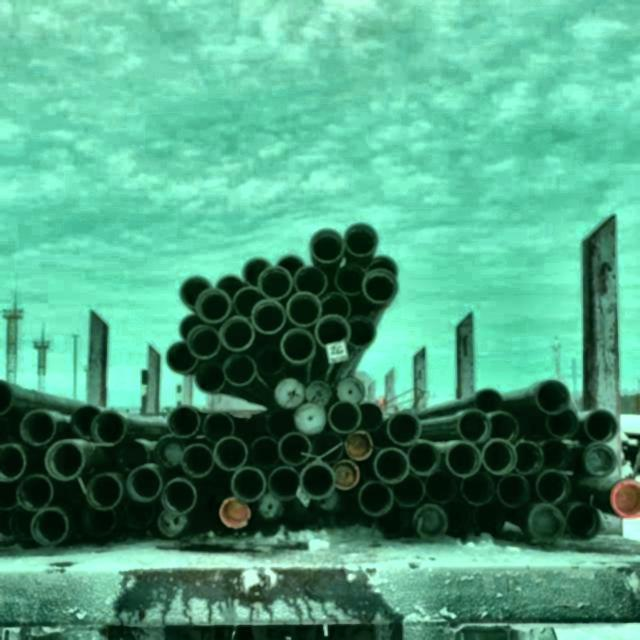pipe: (44, 440, 86, 482), (29, 508, 69, 548), (529, 504, 567, 544), (126, 464, 163, 504), (86, 474, 124, 512), (16, 475, 54, 512), (446, 442, 482, 480), (251, 299, 287, 336), (535, 380, 572, 416), (195, 288, 232, 324), (219, 316, 256, 352), (374, 449, 410, 486), (358, 482, 395, 518), (301, 462, 336, 500), (231, 468, 267, 504), (161, 478, 197, 514), (281, 329, 316, 366), (287, 292, 322, 328), (363, 270, 398, 306), (91, 411, 127, 446), (537, 470, 572, 506), (567, 504, 602, 540), (413, 505, 449, 540), (20, 411, 54, 448), (484, 439, 518, 476), (213, 437, 248, 472), (387, 413, 422, 448), (461, 473, 496, 508), (583, 410, 620, 443), (346, 223, 379, 260), (278, 433, 312, 468), (187, 325, 221, 360), (583, 444, 618, 478), (409, 441, 441, 478), (498, 475, 531, 510), (181, 444, 214, 479), (258, 267, 293, 300), (310, 230, 343, 265), (315, 315, 351, 347), (223, 355, 257, 388), (459, 410, 492, 444), (268, 467, 300, 502), (294, 403, 327, 436), (179, 276, 211, 310), (329, 402, 362, 434), (394, 476, 427, 508), (219, 498, 252, 530), (70, 405, 100, 440), (168, 407, 201, 438), (516, 441, 545, 476), (335, 264, 366, 296), (167, 342, 198, 374), (274, 378, 305, 410), (294, 267, 328, 296), (195, 362, 225, 394), (488, 412, 520, 442), (547, 409, 579, 439), (203, 413, 235, 442), (155, 436, 184, 468), (251, 437, 279, 470), (345, 431, 374, 462), (350, 316, 377, 349), (334, 461, 361, 492), (243, 258, 271, 286), (337, 377, 366, 404), (323, 292, 352, 318), (545, 440, 570, 470), (217, 275, 247, 298), (477, 389, 503, 413), (179, 315, 203, 340)
